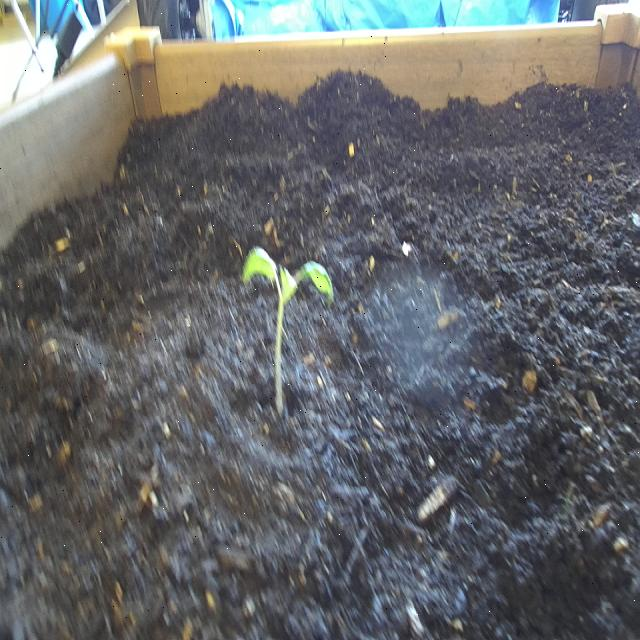Healthy: (234, 232, 336, 430)
